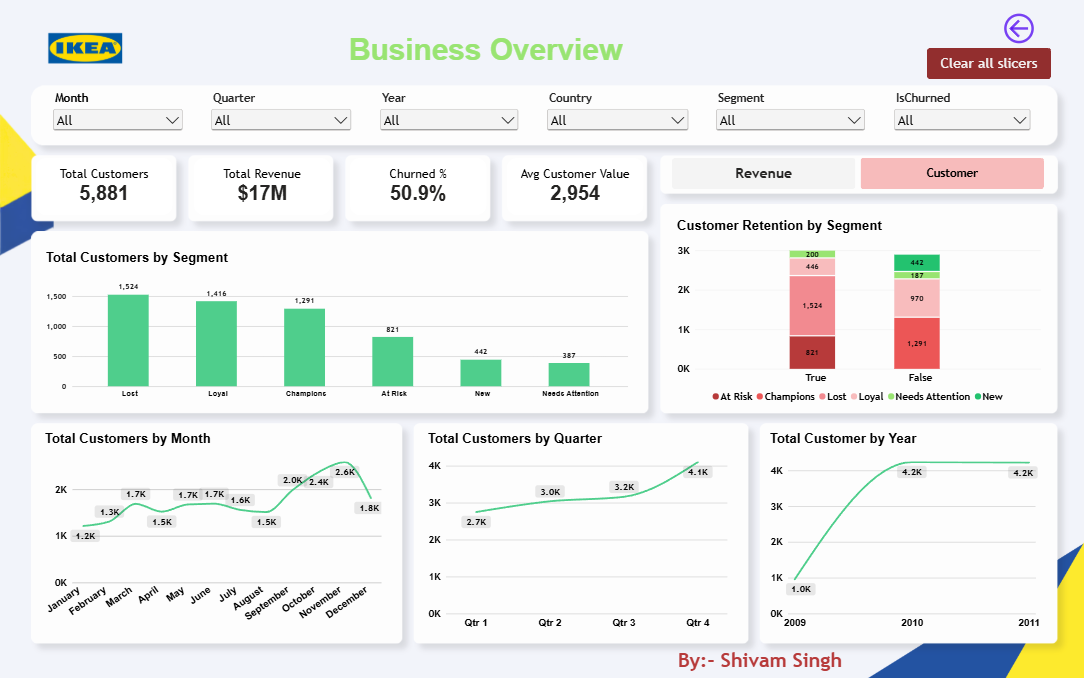

The dashboard page shown, as its layout file describes it:
{"tool":"powerbi","page":{"name":"Overview","canvas":[1750,1100],"ordinal":1},"visuals":[{"type":"slicer","fields":{"Values":["Sheet1.InvoiceDate.Variation.Date Hierarchy.Month"]},"box":[80.7,147.8,219.4,77.7],"z":0,"group":"g2"},{"type":"cardVisual","fields":{"Data":["Sheet1.Total Customers"]},"box":[57.9,254.4,220.9,92.9],"z":0},{"type":"columnChart","fields":{"Category":["Sheet1.Segment"],"Y":["Sheet1.Total Revenue"]},"box":[57.9,380.9,970.5,266.6],"z":0,"group":"g1"},{"type":"slicer","fields":{"Values":["Sheet1.InvoiceMonth.Variation.Date Hierarchy.Quarter"]},"box":[336,147.8,236.1,77.7],"z":1000,"group":"g2"},{"type":"cardVisual","fields":{"Data":["Sheet1.Total Revenue"]},"box":[312.3,254.4,220.9,92.9],"z":1000},{"type":"pieChart","fields":{"Category":["Sheet1.Segment"],"Series":["Sheet1.IsChurned"],"Y":["Sheet1.Total Revenue"]},"box":[1075.6,336.7,618.6,326],"z":1000,"group":"g1"},{"type":"slicer","fields":{"Values":["Sheet1.InvoiceDate.Variation.Date Hierarchy.Year"]},"box":[608.2,147.8,233.1,77.7],"z":2000,"group":"g2"},{"type":"cardVisual","fields":{"Data":["Sheet1.Churned %"]},"box":[563.7,254.4,220.9,92.9],"z":2000},{"type":"lineChart","fields":{"Category":["Sheet1.InvoiceMonth.Variation.Date Hierarchy.Year","Sheet1.InvoiceMonth.Variation.Date Hierarchy.Quarter","Sheet1.InvoiceMonth.Variation.Date Hierarchy.Month"],"Y":["Sheet1.Total Revenue"]},"box":[61.6,685.5,573.3,342.7],"z":2000,"group":"g1"},{"type":"slicer","fields":{"Values":["Sheet1.Country"]},"box":[877.2,147.8,237.7,77.7],"z":3000,"group":"g2"},{"type":"cardVisual","fields":{"Data":["Sheet1.Avg Customer Value"]},"box":[818.1,254.4,220.9,92.9],"z":3000},{"type":"lineChart","fields":{"Category":["Sheet1.InvoiceMonth.Variation.Date Hierarchy.Quarter"],"Y":["Sheet1.Total Revenue"]},"box":[674.9,685.6,515,342.8],"z":3000,"group":"g1"},{"type":"slicer","fields":{"Values":["Sheet1.Segment"]},"box":[1150.8,147.8,249.9,77.7],"z":4000,"group":"g2"},{"type":"lineChart","fields":{"Category":["Sheet1.InvoiceMonth.Variation.Date Hierarchy.Year"],"Y":["Sheet1.Total Revenue"]},"box":[1226.5,685.6,467.7,342.8],"z":4000,"group":"g1"},{"type":"slicer","fields":{"Values":["Sheet1.IsChurned"]},"box":[1436.7,147.8,230.1,77.7],"z":5000,"group":"g2"},{"type":"group","id":"g1","title":"Revenue","box":[57.9,336.7,1636.3,691.7],"z":5000},{"type":"actionButton","box":[1494.6,77.7,200,50],"z":6000,"group":"g2"},{"type":"bookmarkNavigator","box":[1084.2,254.7,600,50],"z":6000},{"type":"textbox","box":[1069.5,1045.2,312.3,42.7],"z":7000},{"type":"image","box":[57.9,25.9,158.4,103.6],"z":8000},{"type":"textbox","box":[496.7,53.3,572.9,76.2],"z":9000},{"type":"actionButton","box":[1593.6,12.2,100.6,65.5],"z":10000},{"type":"group","id":"g2","title":"Slicer","box":[80.7,77.7,1613.9,147.8],"z":11000}]}

Visuals, with their boxes in screenshot pixels (x1, y1, x2, y2), scaled from the page's 1750x1100 canvas onto the 1084x678 screenshot:
slicer - Sheet1.InvoiceDate.Variation.Date Hierarchy.Month: 50/91/186/139
cardVisual - Sheet1.Total Customers: 36/157/173/214
columnChart - Sheet1.Segment x Sheet1.Total Revenue: 36/235/637/399
slicer - Sheet1.InvoiceMonth.Variation.Date Hierarchy.Quarter: 208/91/354/139
cardVisual - Sheet1.Total Revenue: 193/157/330/214
pieChart - Sheet1.Segment x Sheet1.IsChurned: 666/208/1049/408
slicer - Sheet1.InvoiceDate.Variation.Date Hierarchy.Year: 377/91/521/139
cardVisual - Sheet1.Churned %: 349/157/486/214
lineChart - Sheet1.InvoiceMonth.Variation.Date Hierarchy.Year x Sheet1.InvoiceMonth.Variation.Date Hierarchy.Quarter: 38/423/393/634
slicer - Sheet1.Country: 543/91/691/139
cardVisual - Sheet1.Avg Customer Value: 507/157/644/214
lineChart - Sheet1.InvoiceMonth.Variation.Date Hierarchy.Quarter x Sheet1.Total Revenue: 418/423/737/634
slicer - Sheet1.Segment: 713/91/868/139
lineChart - Sheet1.InvoiceMonth.Variation.Date Hierarchy.Year x Sheet1.Total Revenue: 760/423/1049/634
slicer - Sheet1.IsChurned: 890/91/1032/139
"Revenue" group: 36/208/1049/634
actionButton: 926/48/1050/79
bookmarkNavigator: 672/157/1043/188
textbox: 662/644/856/671
image: 36/16/134/80
textbox: 308/33/663/80
actionButton: 987/8/1049/48
"Slicer" group: 50/48/1050/139
